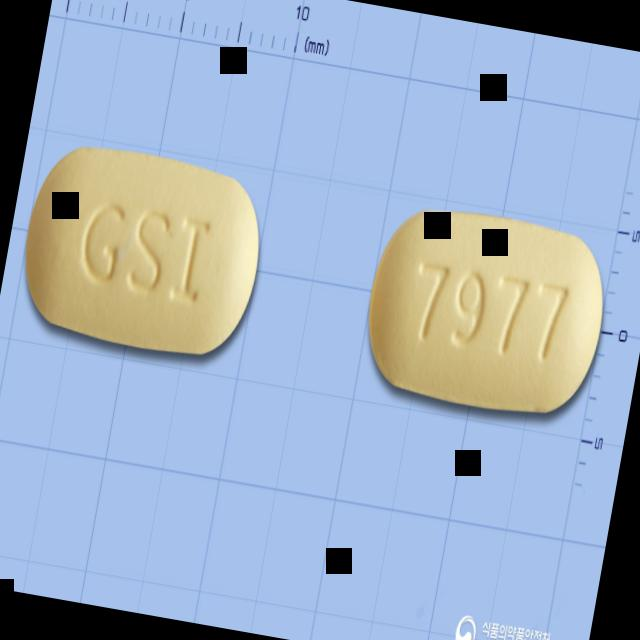Clarimacin - 500mg: (12, 135, 274, 368), (355, 198, 618, 426)
